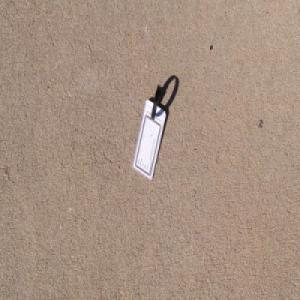LuggageTag: (132, 82, 167, 182)
